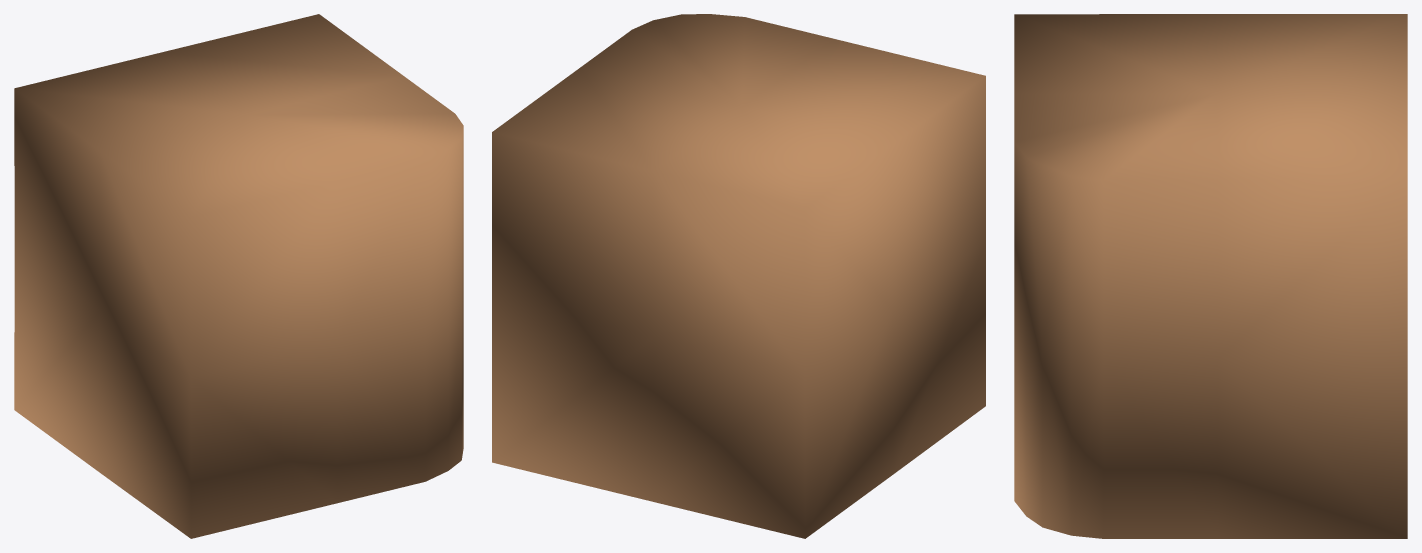
Rendered from V1.Ground.Corner.Soil.fbx.
The picture shows the model from 3 angles, left to right: view 1: azimuth 30°, elevation 25°; view 2: azimuth 150°, elevation 25°; view 3: azimuth 270°, elevation 25°; orthographic projection. The views are drawn at different scales.
Parts seen in each view (by area): view 1: V1.Corner; view 2: V1.Corner; view 3: V1.Corner.
Boxes of the visible parts, x1,y1,x2,y2 form: V1.Corner: (14,14,463,538); V1.Corner: (492,14,985,538); V1.Corner: (1014,14,1407,538).
Bounding box in the file's own units: 199 × 201 × 200.
